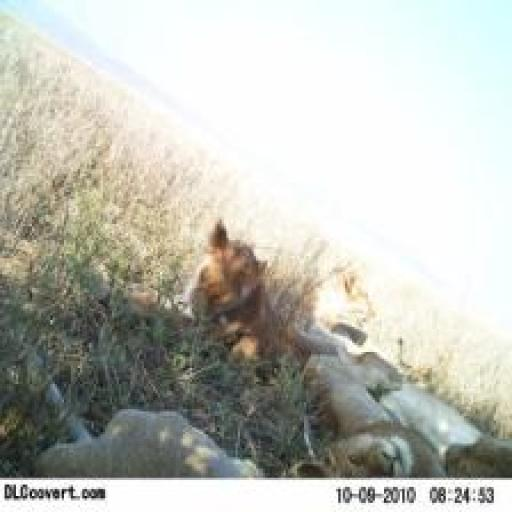lion: (140, 217, 298, 392), (306, 212, 385, 372)
